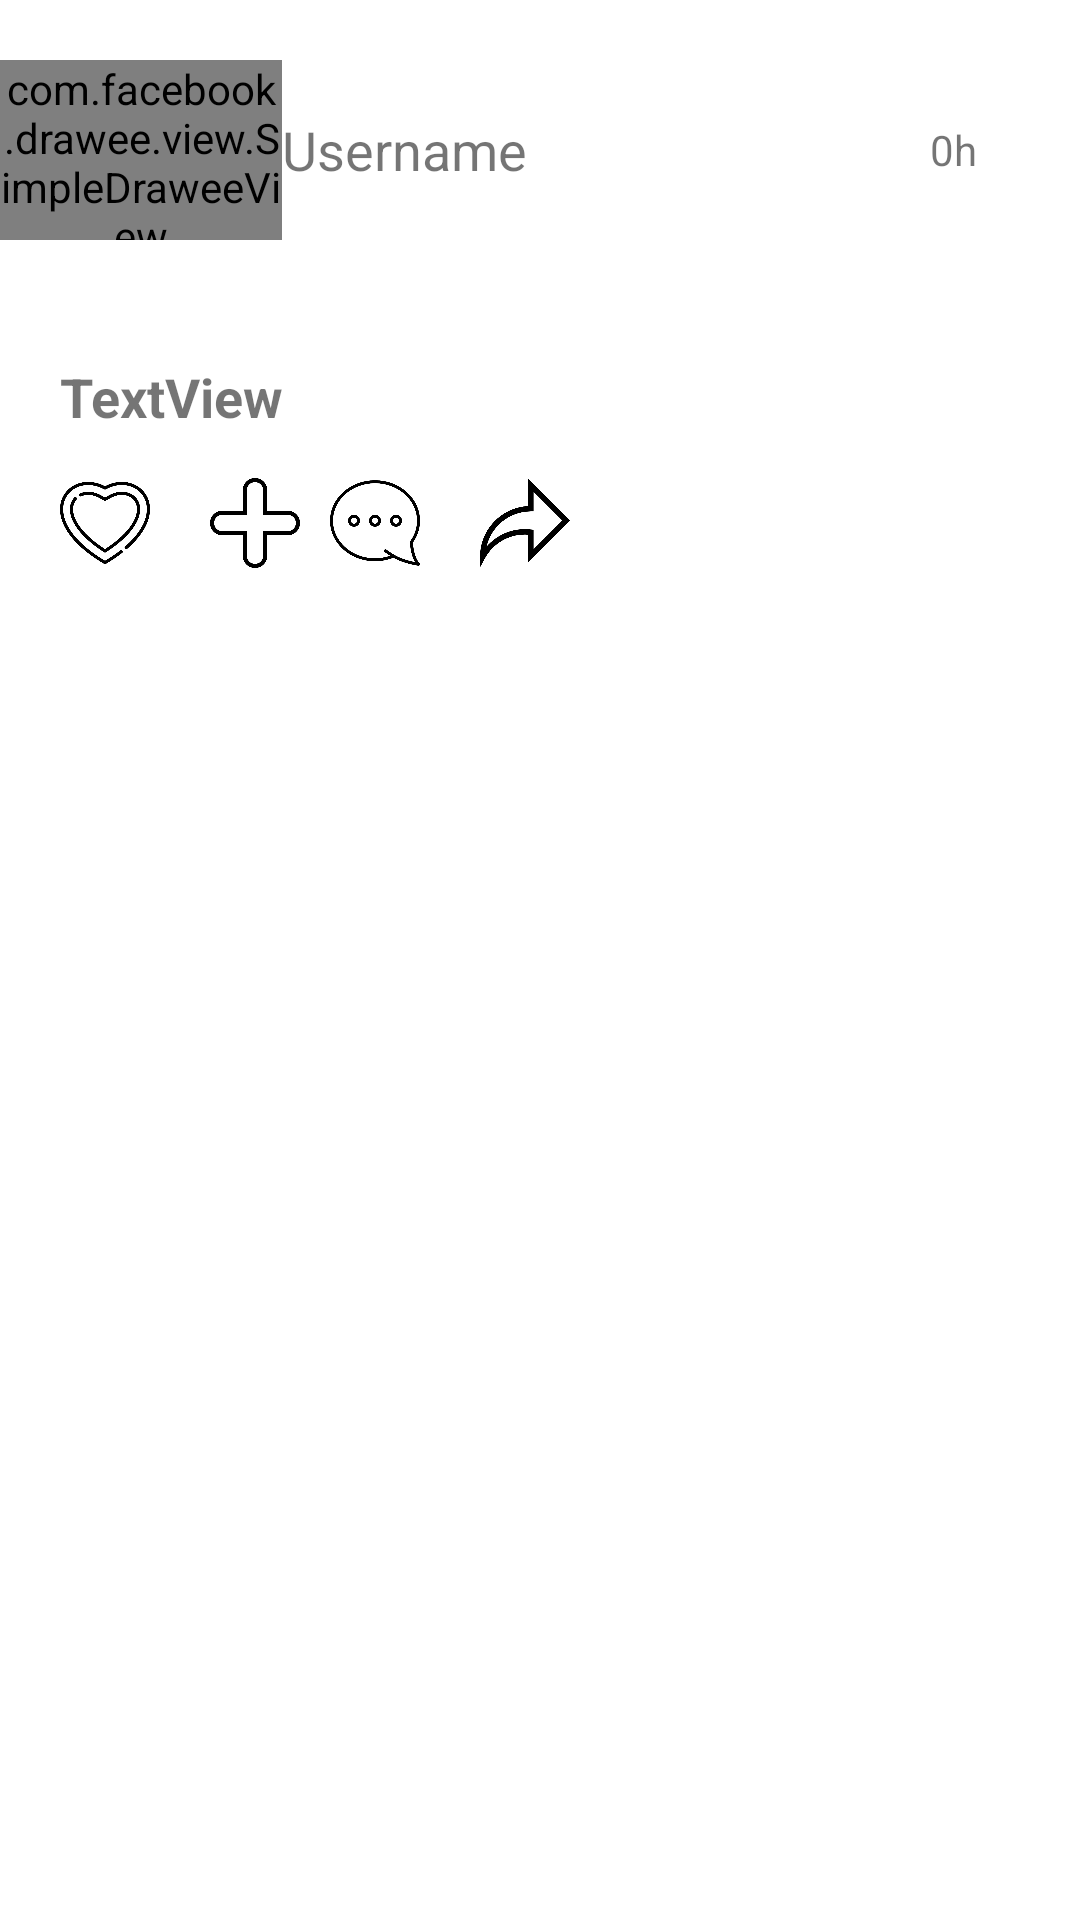

Icon click points for this 1080 x 1920 phone screenshot, format (x=x, y=y):
plus: (x=255, y=523)
post comment: (x=375, y=523)
post like: (x=105, y=523)
post share: (x=525, y=523)
